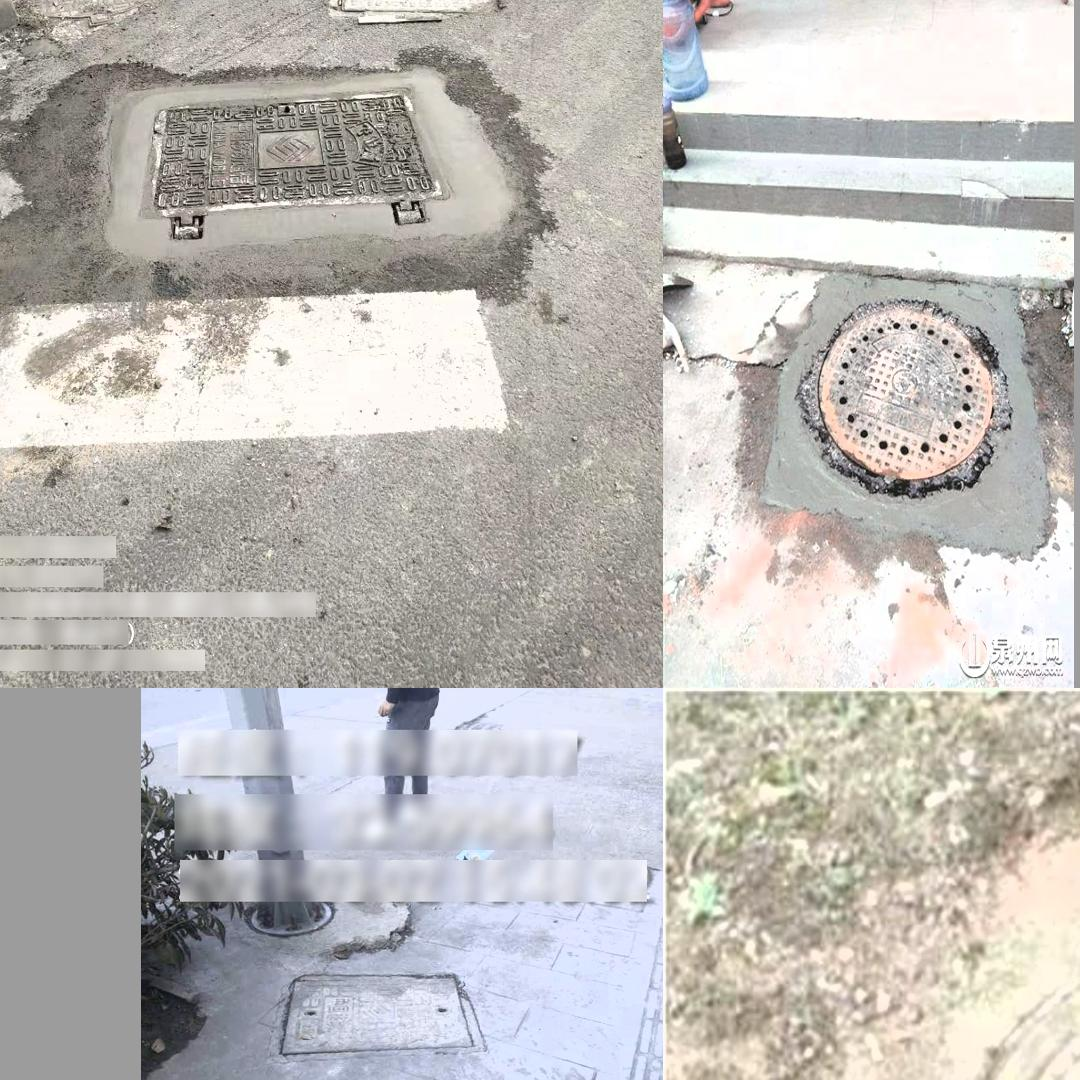good: (793, 273, 1044, 544), (135, 84, 454, 242), (933, 922, 1080, 1080), (271, 971, 489, 1062), (327, 0, 502, 25)
